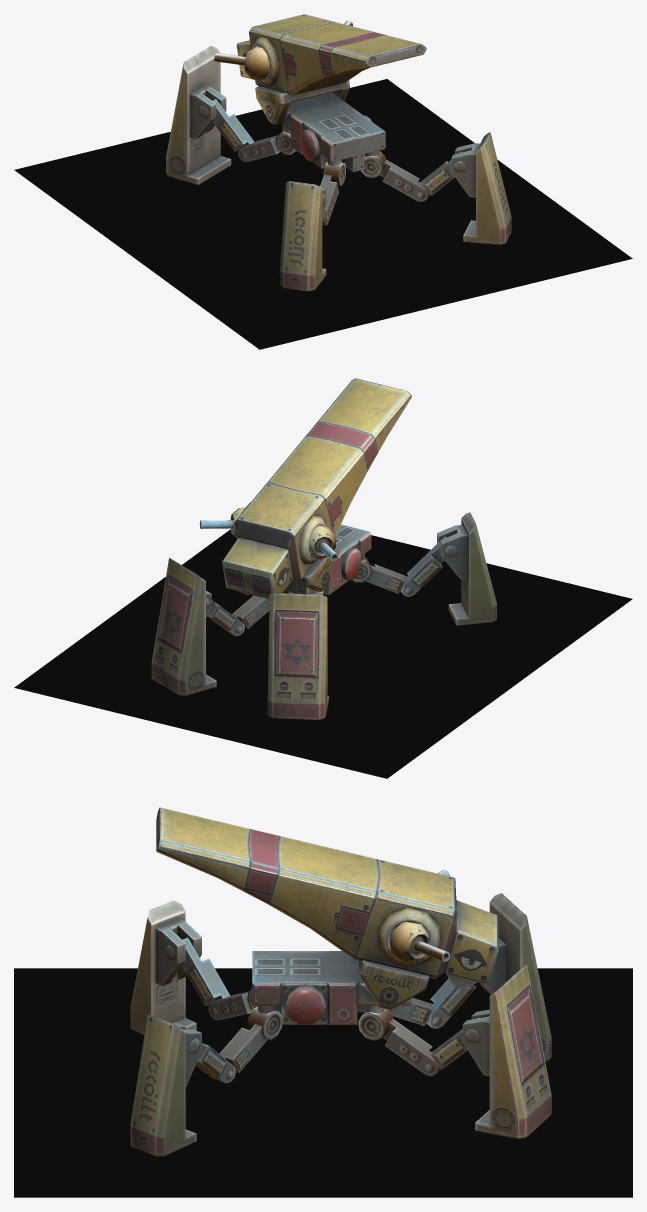
Rendered from get3d-abandoned-mecha.glb.
3 renders of one model, top to bottom at view 1: azimuth 30°, elevation 25°; view 2: azimuth 150°, elevation 25°; view 3: azimuth 270°, elevation 25°, orthographic. The views are drawn at different scales.
Visible parts, largest first — view 1: Plane001_Material #23_0, Object010_Material #2_0; view 2: Plane001_Material #23_0, Object010_Material #2_0; view 3: Plane001_Material #23_0, Object010_Material #2_0.
Boxes of the visible parts, x1=… form: Plane001_Material #23_0: x1=14, y1=79, x2=632, y2=349; Object010_Material #2_0: x1=166, y1=14, x2=511, y2=291; Plane001_Material #23_0: x1=14, y1=529, x2=632, y2=778; Object010_Material #2_0: x1=151, y1=378, x2=496, y2=719; Plane001_Material #23_0: x1=14, y1=968, x2=632, y2=1197; Object010_Material #2_0: x1=130, y1=807, x2=551, y2=1156.
Size of the model in its own units: 1.53 by 0.8225 by 1.75.
2 materials, 2 textured.
